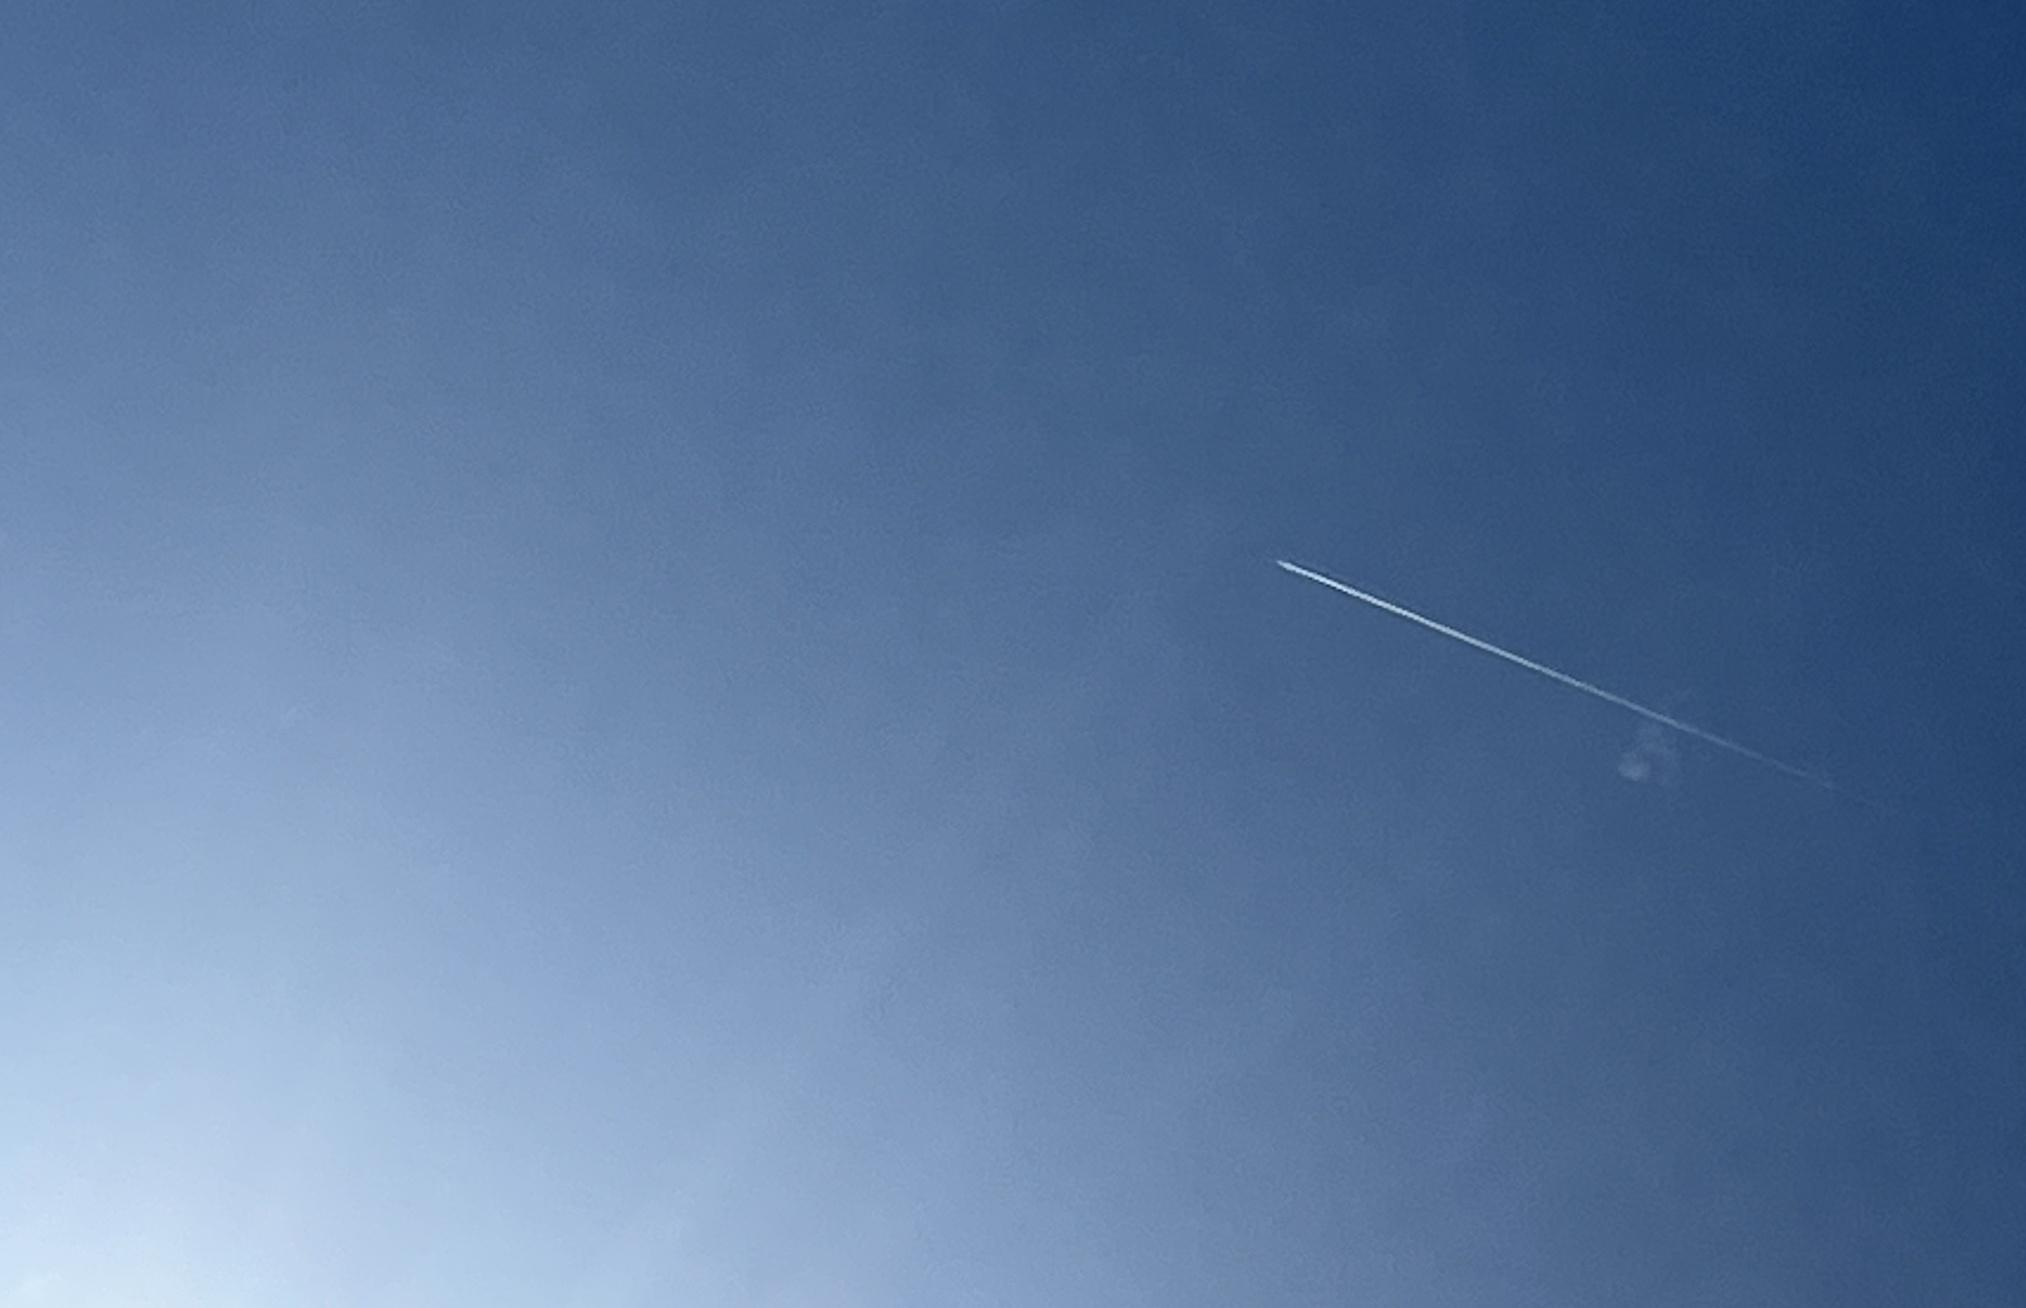Plane: (1254, 489, 1883, 871)
